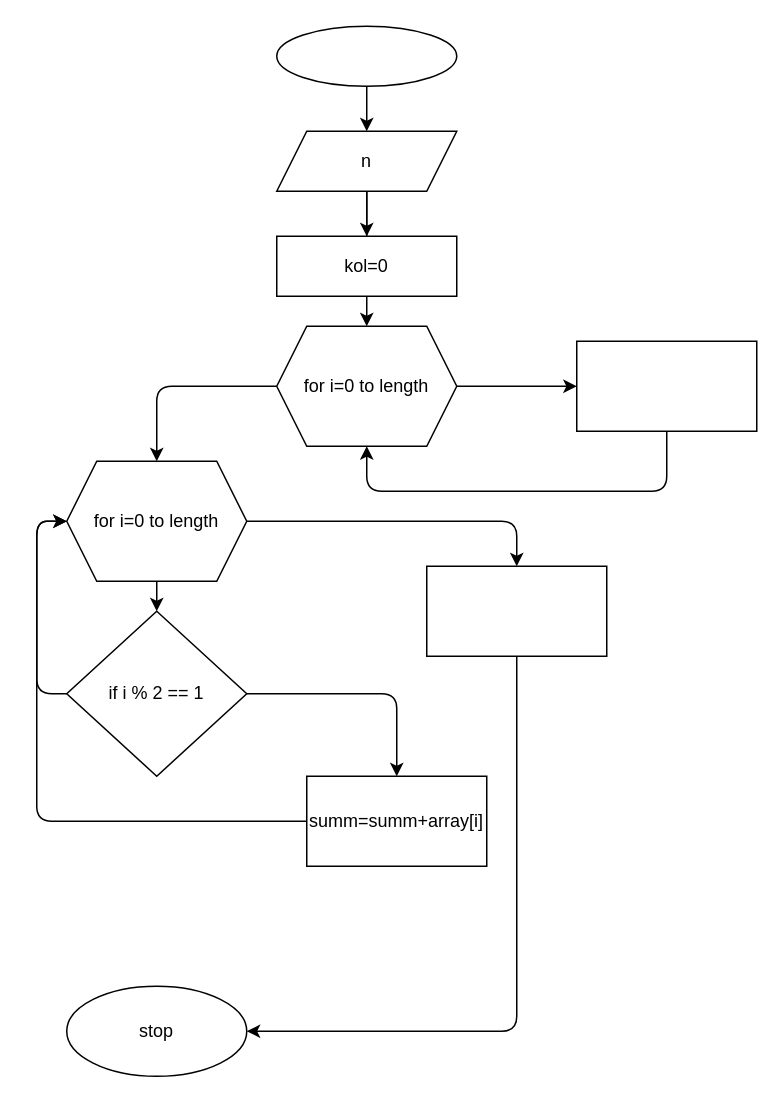
The diagram is 783 pixels wide and 1103 high, and some of its shapes have lost their labels. Here are the shapes that lost their labels. From the top down, the centre of each, then its label:
[366,55]: start
[666,385]: random array[i] (100,999)
[516,610]: Write array[i]
